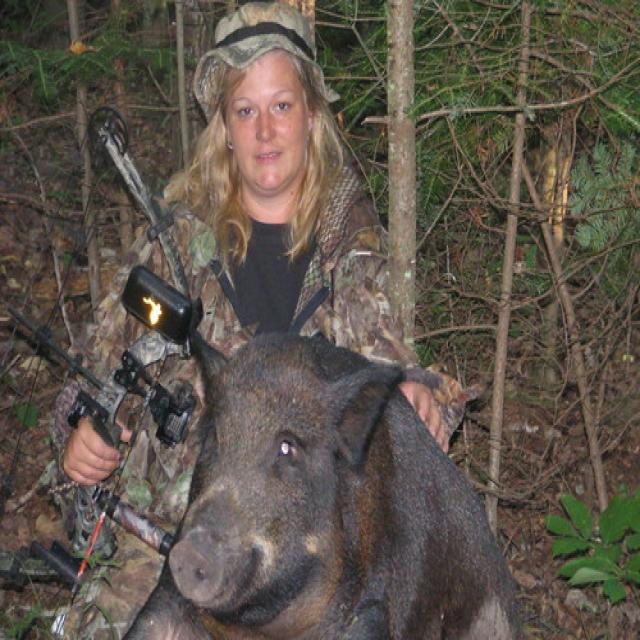boar: (114, 297, 536, 640)
